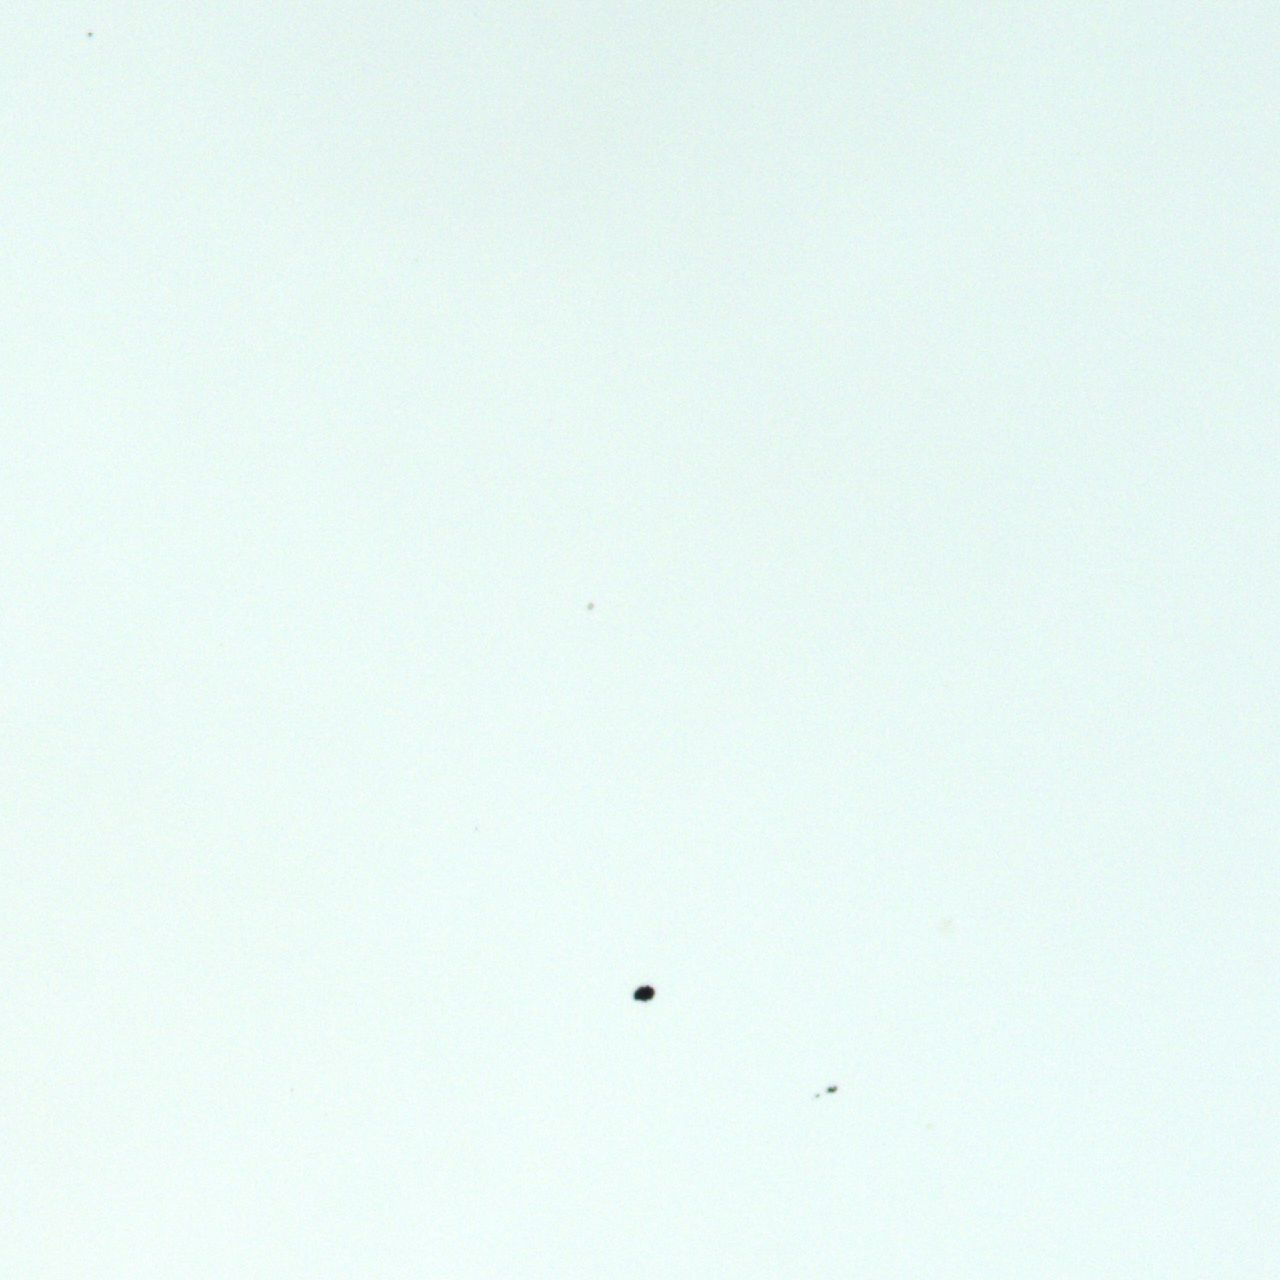dust: (634, 983, 655, 1000), (826, 1085, 836, 1092), (586, 601, 593, 610), (87, 30, 91, 36)
